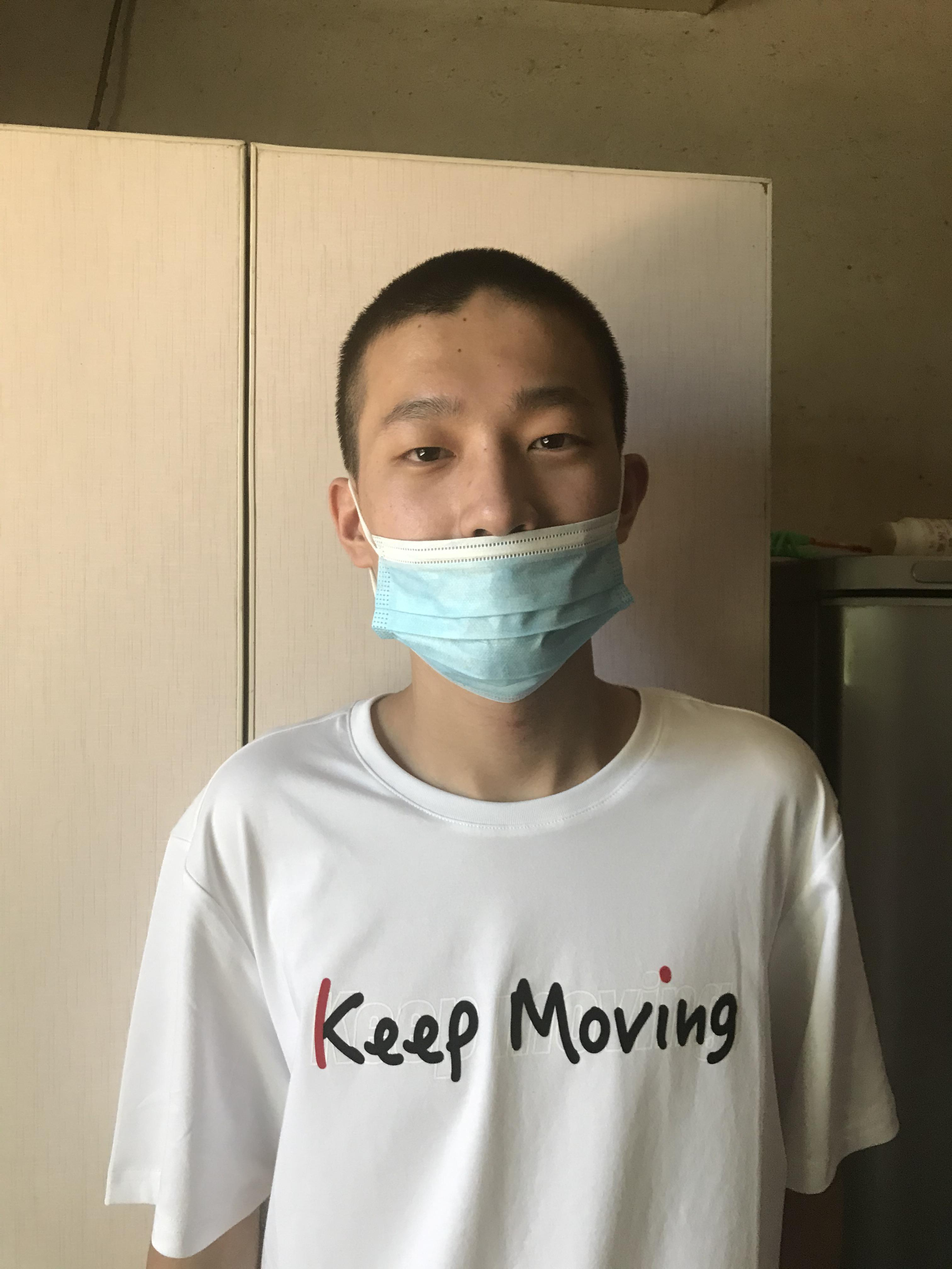WRONG: (356, 361, 632, 692)
